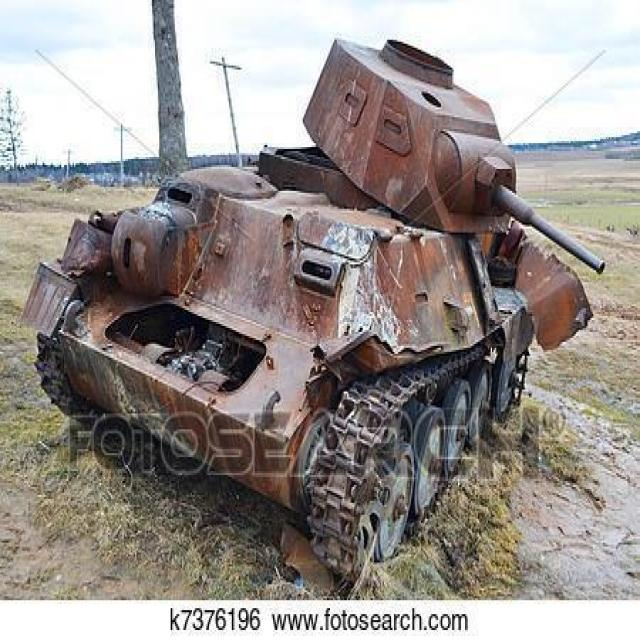Tanks: (16, 81, 597, 568)
